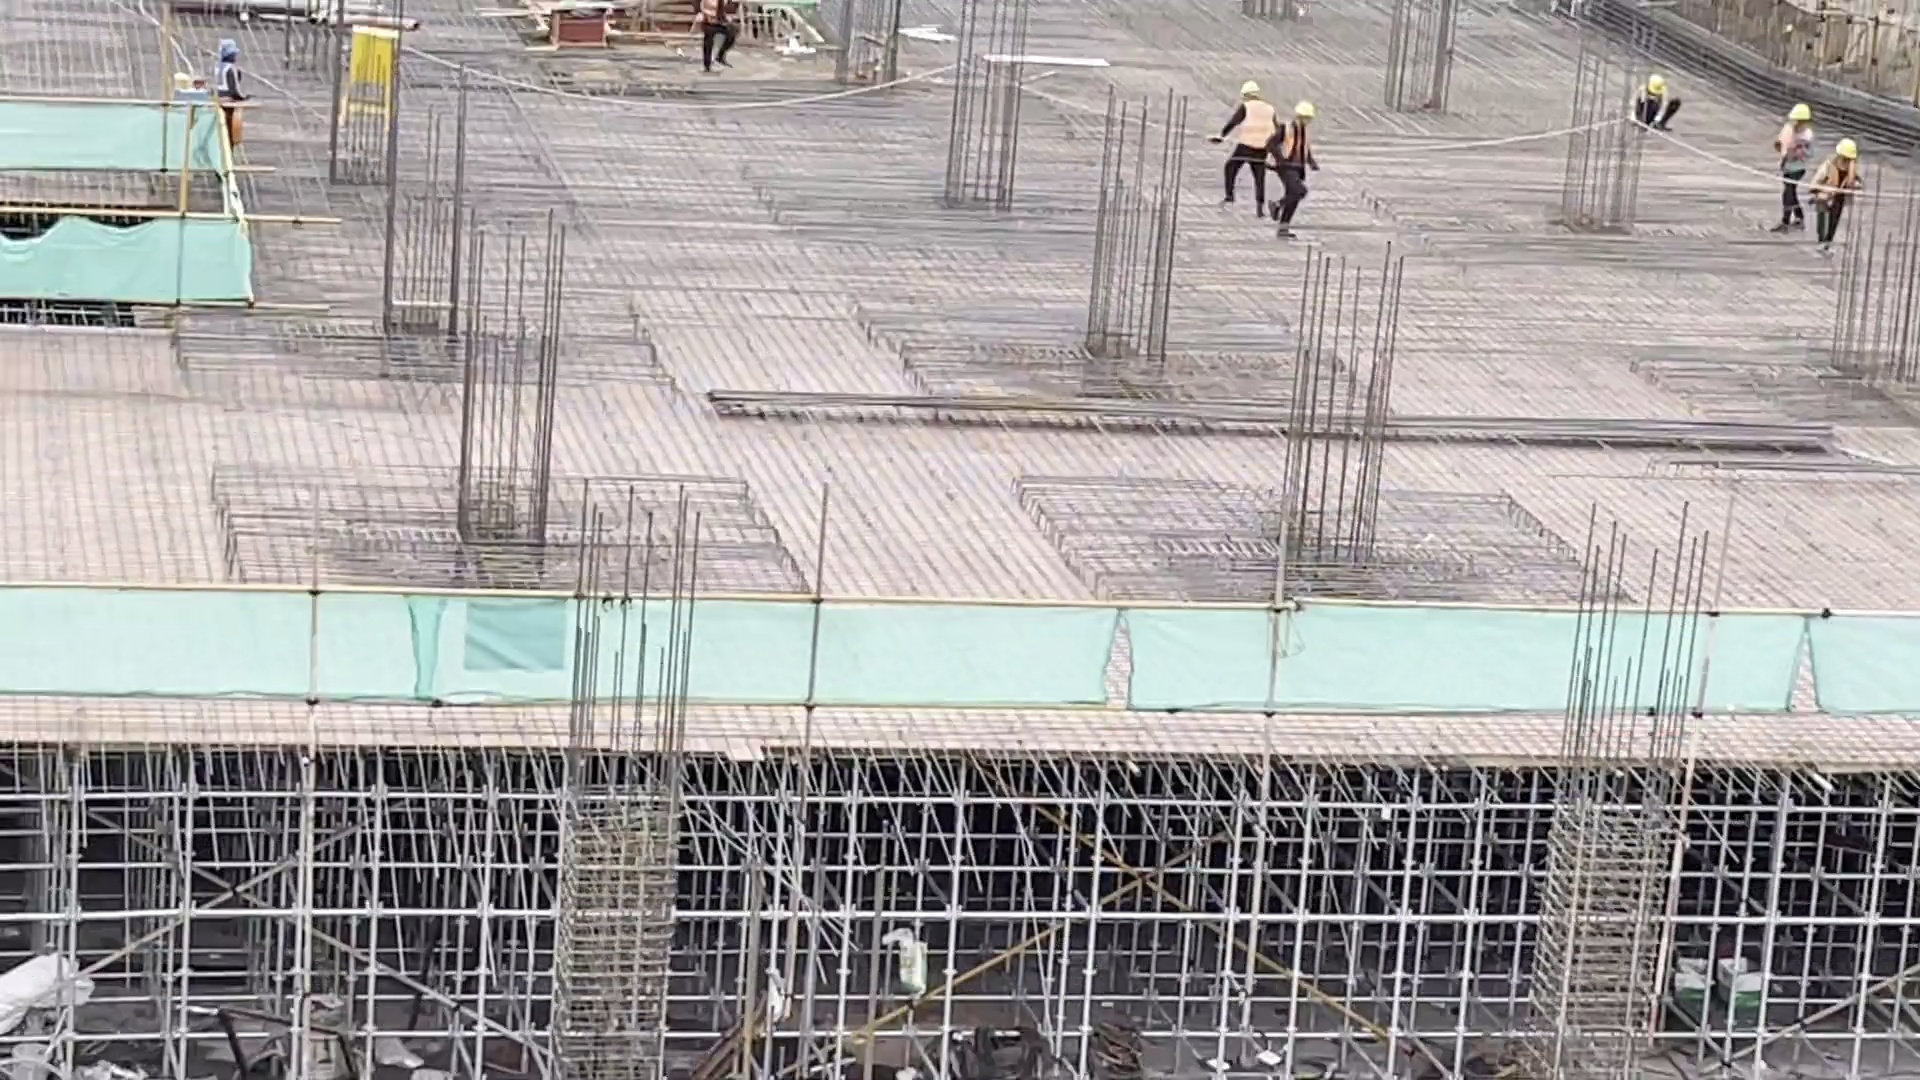helmet: (1788, 99, 1816, 125), (1833, 137, 1862, 162), (218, 36, 244, 61), (1235, 76, 1264, 95), (1647, 74, 1669, 96), (1294, 99, 1320, 118)
person: (1203, 71, 1272, 222), (1763, 87, 1816, 241), (1272, 95, 1321, 245), (1819, 138, 1861, 272), (691, 1, 752, 72), (216, 39, 253, 149), (1635, 68, 1681, 142)
vest: (1236, 103, 1273, 151), (1824, 159, 1857, 214), (1283, 123, 1312, 169), (215, 59, 238, 99)
